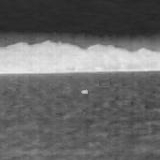Target: (80, 89, 89, 95)
